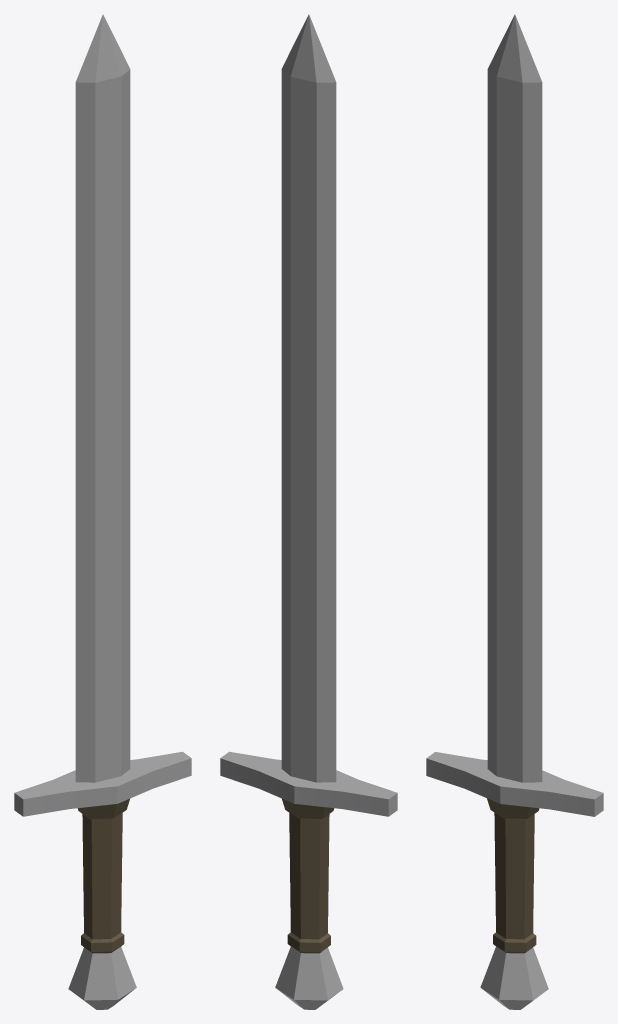
The model's file is Sword.fbx.
3 views of the same model, side by side, from view 1: azimuth 30°, elevation 25°; view 2: azimuth 150°, elevation 25°; view 3: azimuth 330°, elevation 25° (orthographic).
Parts seen in each view (by area): view 1: Sword:Sword; view 2: Sword:Sword; view 3: Sword:Sword.
Part boxes in pixels (x1=…): Sword:Sword: x1=14, y1=14, x2=191, y2=1009; Sword:Sword: x1=220, y1=14, x2=397, y2=1009; Sword:Sword: x1=426, y1=14, x2=603, y2=1009.
Size of the model in its own units: 0.2015 by 1.13 by 0.0648.
